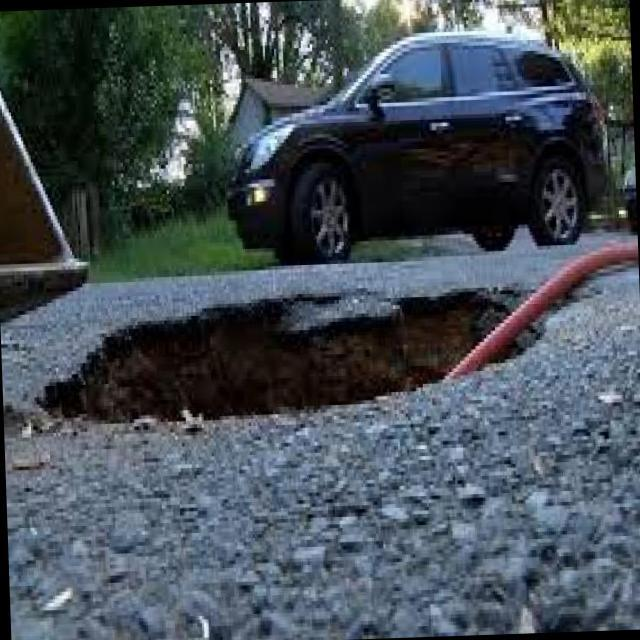Burst: (8, 278, 525, 427)
